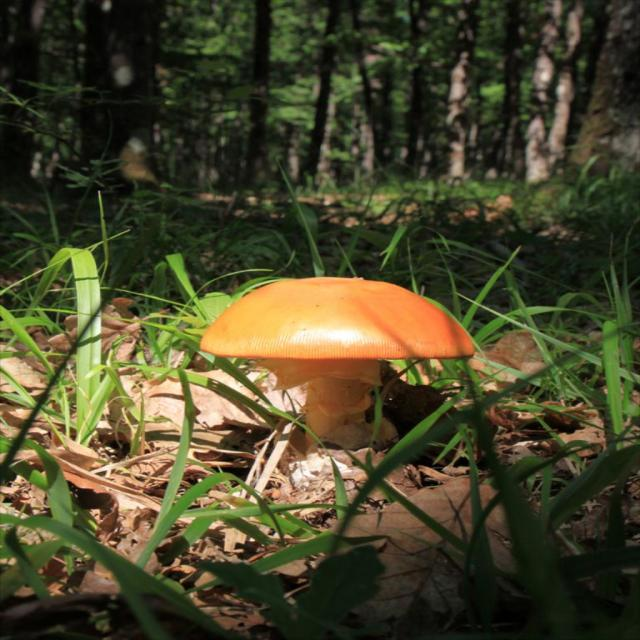Mushroom: (202, 276, 476, 454)
